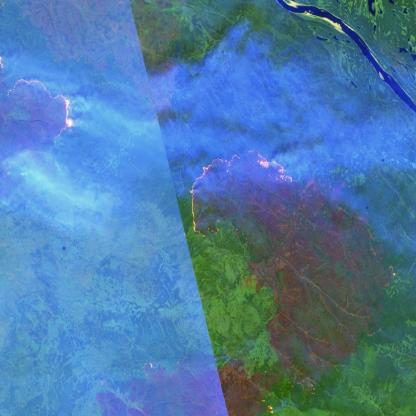fire: (185, 138, 300, 256), (0, 59, 85, 162)
